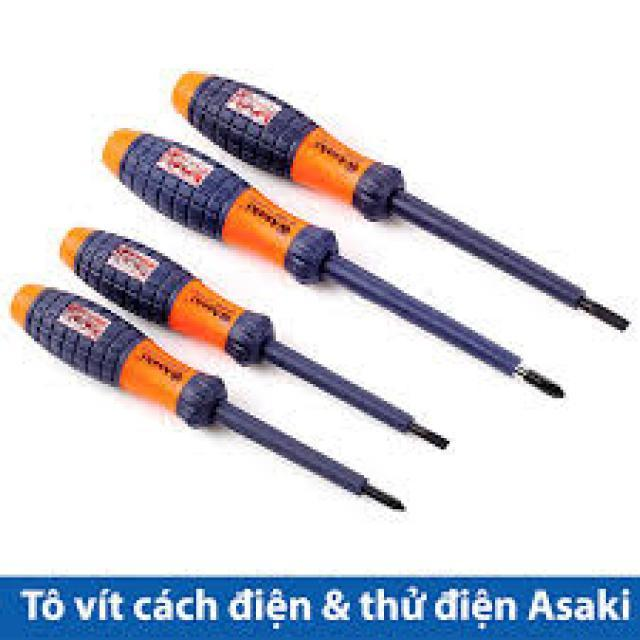screwdriver: (98, 125, 570, 401), (166, 67, 633, 337), (6, 282, 410, 514), (56, 226, 457, 451)
